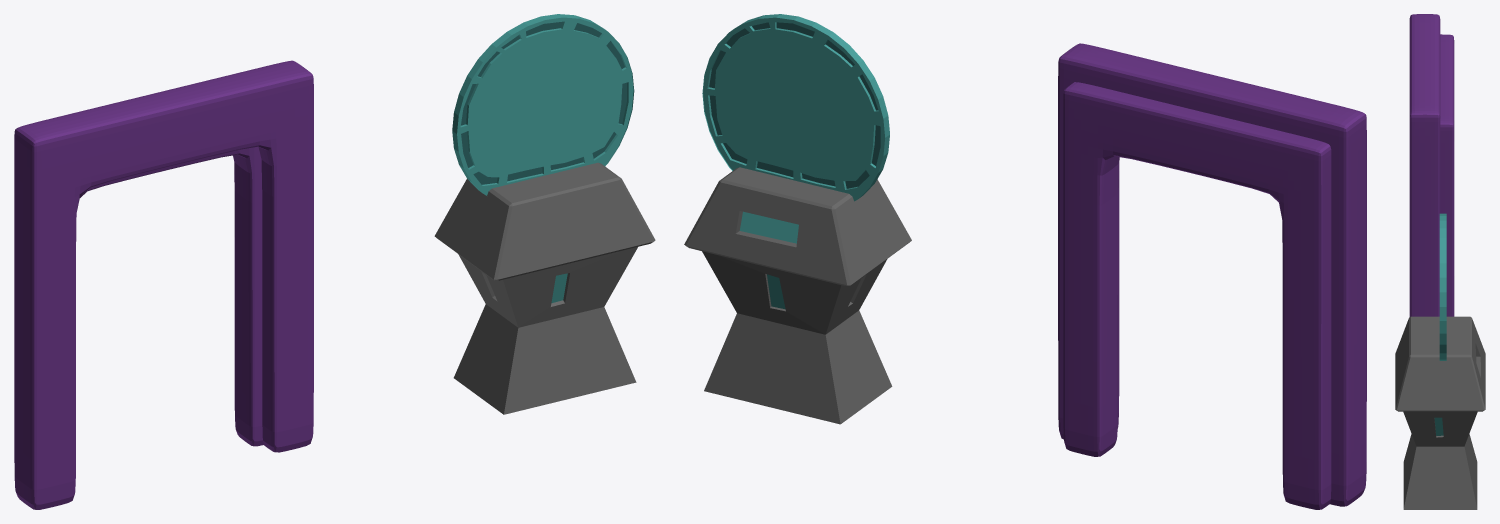
Rendered from MAQUINA2.fbx.
The picture shows the model from 3 angles, left to right: view 1: azimuth 30°, elevation 25°; view 2: azimuth 150°, elevation 25°; view 3: azimuth 270°, elevation 25°; orthographic projection. The views are drawn at different scales.
Parts seen in each view (by area): view 1: Cube.001, Cube, Circle, Circle.001; view 2: Cube.001, Cube, Circle.001, Circle; view 3: Cube, Cube.001, Circle, Circle.001.
Boxes of the visible parts, left/top/right/bottom form: Cube.001: left=14, top=60, right=313, bottom=509; Cube: left=434, top=162, right=655, bottom=414; Circle: left=452, top=14, right=633, bottom=195; Circle.001: left=453, top=14, right=634, bottom=193; Cube.001: left=1058, top=43, right=1366, bottom=509; Cube: left=684, top=167, right=911, bottom=424; Circle.001: left=703, top=14, right=889, bottom=201; Circle: left=702, top=14, right=889, bottom=198; Cube: left=1395, top=316, right=1485, bottom=509; Cube.001: left=1409, top=14, right=1454, bottom=316; Circle: left=1440, top=213, right=1446, bottom=360; Circle.001: left=1439, top=214, right=1445, bottom=360.
Size of the model in its own units: 1200 by 711 by 205.
